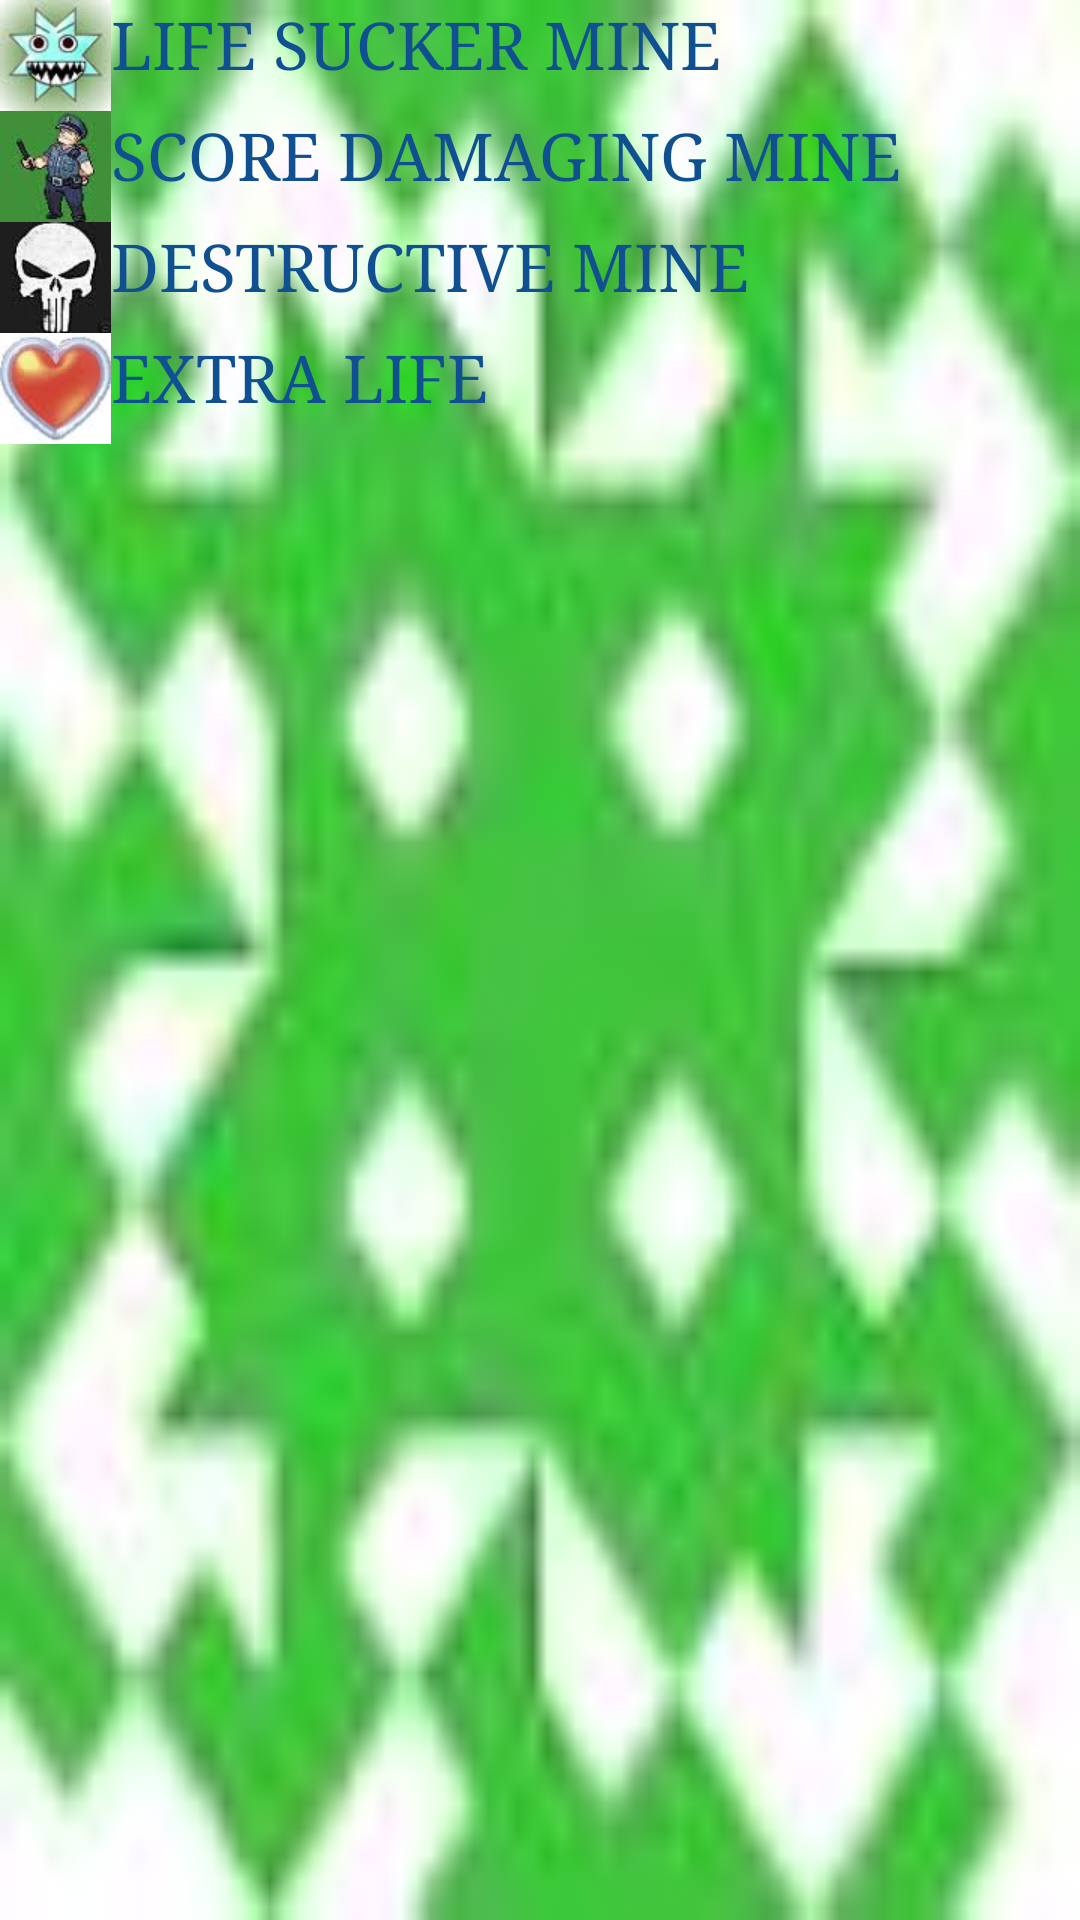

Point at icon controls on the screen. Image size 1080 x 1920, points as (x=x, y=y).
heart: (x=55, y=388)
